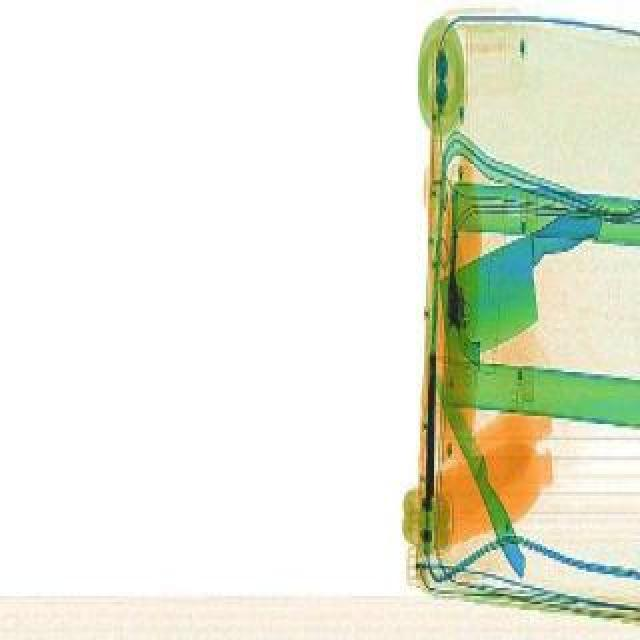knife: (406, 198, 638, 364), (426, 366, 534, 574)
